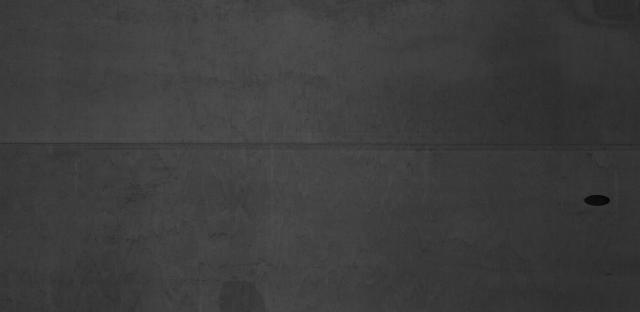punching_hole: (581, 193, 615, 211)
silk_spot: (61, 174, 278, 307)
welding_line: (3, 130, 635, 159)
